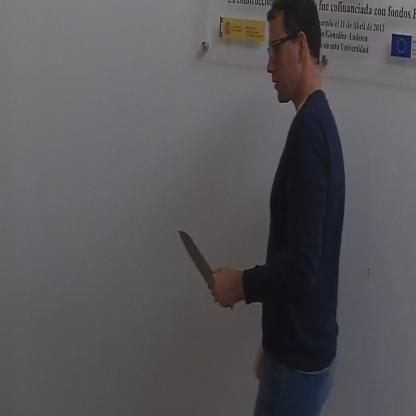knife: (176, 224, 236, 312)
